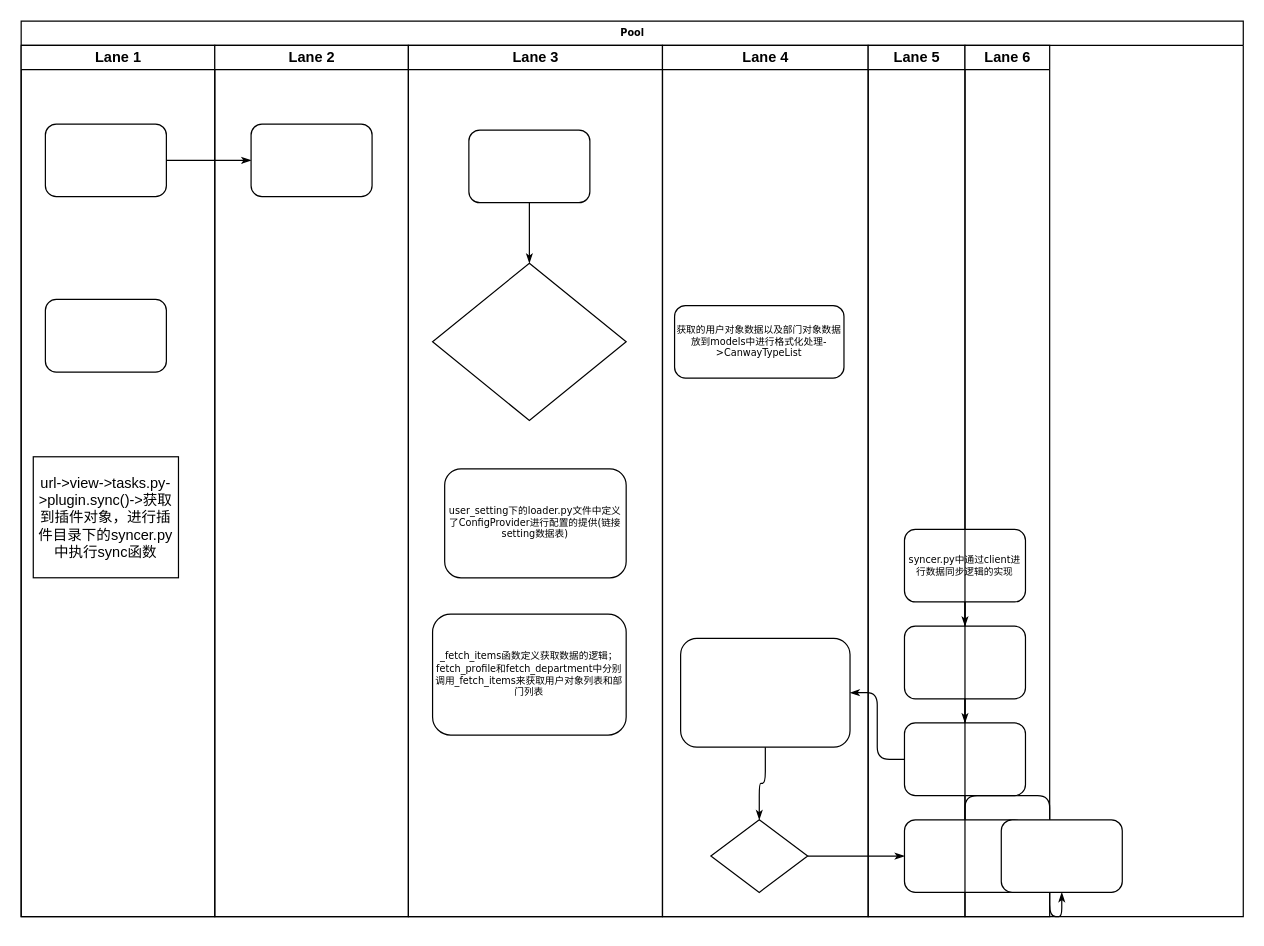
The diagram is 1264 pixels wide and 946 high, and some of its shapes have lost their labels. The shapes that lost their labels are listed below. From the top down, each one's centre as x and y in pixels, then its label:
At pixel 105 160: "执行初始化脚本生成用户目录".
At pixel 311 160: "__init__文件中实现注册插件".
At pixel 529 166: "创建client实现与远端数据源交互的客户端".
At pixel 105 335: "执行命令将初始化生成的用户目录与对应插件进行绑定".
At pixel 528 341: "定义login函数实现登录erp系统拿到Entity作为后续生成Token的拼接部分".
At pixel 764 692: "同步之后的逻辑是走的tasks.py中的同步任务，去获取该用户目录对应的插件，再到制定插件目录下执行目录同步逻辑".
